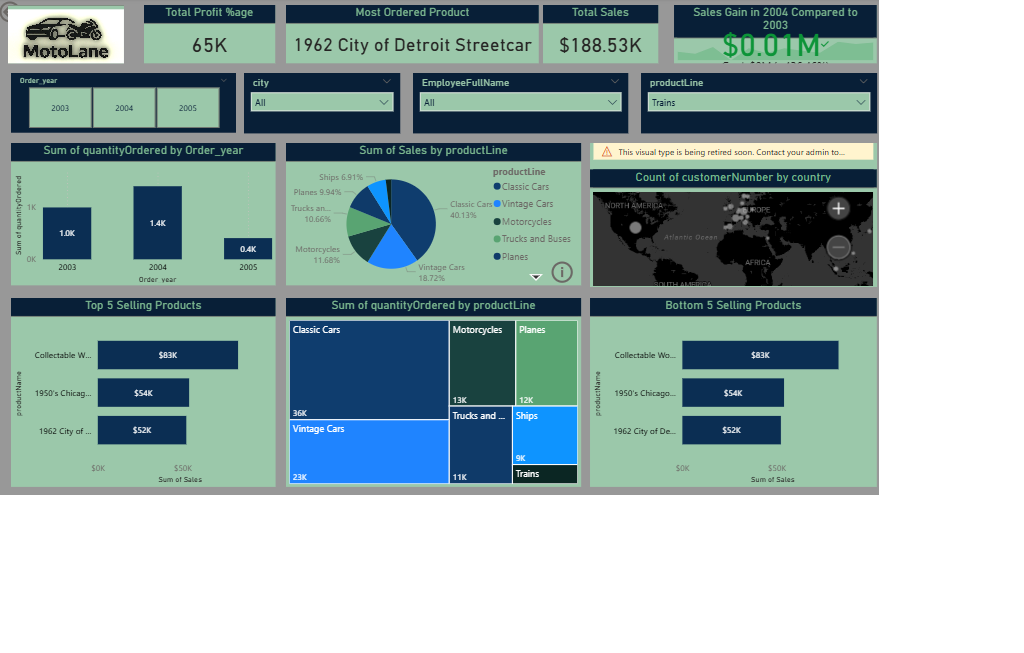

Layout of this report page (visuals, bound fields, positions):
{"tool":"powerbi","page":{"name":"CustomizedDashboard","canvas":[1280,720],"ordinal":0},"visuals":[{"type":"actionButton","box":[0,0,100,40],"z":0},{"type":"barChart","title":"Top 5 Selling Products","fields":{"Category":["Products.productName"],"Y":["Order Details.Sales"]},"box":[20.9,431.9,381.4,271.7],"z":1000},{"type":"pieChart","fields":{"Category":["Products.productLine"],"Y":["Order Details.Sales"]},"box":[418,209,424.9,205.5],"z":2000},{"type":"card","title":"Most Ordered Product","fields":{"Values":["Order Details.MostOrderedProductName"]},"box":[417.6,10.1,364.3,83.5],"z":3000},{"type":"kpi","title":"Sales Gain in 2004 Compared to 2003","fields":{"Goal":["Orders.order2003"],"TrendLine":["Orders.Month Name"],"Indicator":["Orders.order2004"]},"box":[976.3,10.1,292.3,83.5],"z":4000},{"type":"map","fields":{"Category":["customers.country"],"Size":["customers.customerNumber"]},"box":[855.1,209,412.7,205.5],"z":5000},{"type":"treemap","fields":{"Group":["ProductLines.productLine"],"Values":["Order Details.quantityOrdered"]},"box":[418,431.9,424.9,271.7],"z":6000},{"type":"columnChart","fields":{"Category":["Orders.Order_year"],"Y":["Order Details.quantityOrdered"]},"box":[20.9,209,381.4,205.5],"z":7000},{"type":"card","title":"Total Sales","fields":{"Values":["Order Details.Sales"]},"box":[787.7,10.1,165.6,83.5],"z":8000},{"type":"card","title":"Total Profit %age","fields":{"Values":["Order Details.Total_Profit"]},"box":[213.1,10.1,188.6,83.5],"z":9000},{"type":"slicer","fields":{"Values":["Orders.Order_year"]},"box":[21.6,108,324,86.4],"z":10000},{"type":"slicer","fields":{"Values":["Offices.city"]},"box":[357,108,224.7,87.1],"z":11000},{"type":"slicer","fields":{"Values":["employees.EmployeeFullName"]},"box":[600.8,108,310,87.1],"z":12000},{"type":"slicer","fields":{"Values":["ProductLines.productLine"]},"box":[928.2,108,339.6,87.1],"z":13000},{"type":"barChart","title":"Bottom 5 Selling Products","fields":{"Category":["Products.productName"],"Y":["Order Details.Sales"]},"box":[855.1,431.9,412.7,271.7],"z":14000},{"type":"actionButton","box":[794.2,374.1,49.6,40.8],"z":15000},{"type":"image","box":[17.3,10.1,167,83.5],"z":16000}]}

Visuals, with their boxes on the page's 1280x720 design canvas (x1, y1, x2, y2). These are canvas units, not pixel positions in the 1024x653 screenshot, which may show the page scaled, cropped or inside an application window:
actionButton: x1=0, y1=0, x2=100, y2=40
"Top 5 Selling Products" barChart: x1=21, y1=432, x2=402, y2=704
pieChart - Products.productLine x Order Details.Sales: x1=418, y1=209, x2=843, y2=414
"Most Ordered Product" card: x1=418, y1=10, x2=782, y2=94
"Sales Gain in 2004 Compared to 2003" kpi: x1=976, y1=10, x2=1269, y2=94
map - customers.country x customers.customerNumber: x1=855, y1=209, x2=1268, y2=414
treemap - ProductLines.productLine x Order Details.quantityOrdered: x1=418, y1=432, x2=843, y2=704
columnChart - Orders.Order_year x Order Details.quantityOrdered: x1=21, y1=209, x2=402, y2=414
"Total Sales" card: x1=788, y1=10, x2=953, y2=94
"Total Profit %age" card: x1=213, y1=10, x2=402, y2=94
slicer - Orders.Order_year: x1=22, y1=108, x2=346, y2=194
slicer - Offices.city: x1=357, y1=108, x2=582, y2=195
slicer - employees.EmployeeFullName: x1=601, y1=108, x2=911, y2=195
slicer - ProductLines.productLine: x1=928, y1=108, x2=1268, y2=195
"Bottom 5 Selling Products" barChart: x1=855, y1=432, x2=1268, y2=704
actionButton: x1=794, y1=374, x2=844, y2=415
image: x1=17, y1=10, x2=184, y2=94
